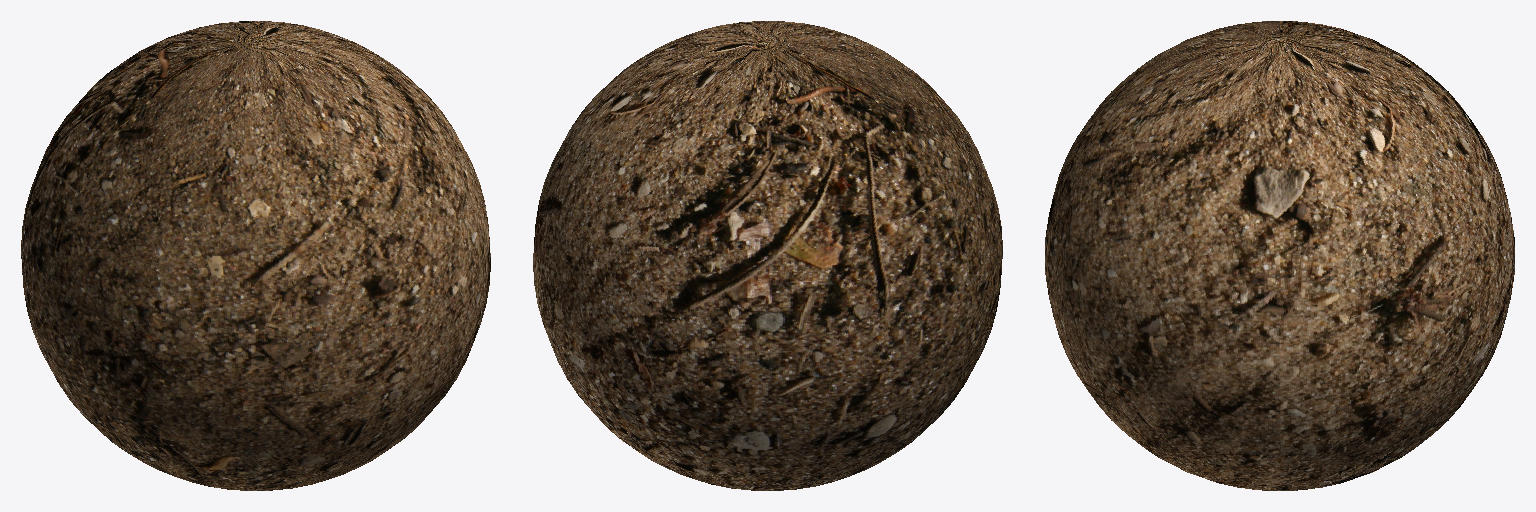
3 renders of one model, left to right at view 1: azimuth 30°, elevation 25°; view 2: azimuth 150°, elevation 25°; view 3: azimuth 270°, elevation 25°, orthographic.
Visible parts, largest first — view 1: Sphere_Sphere.002; view 2: Sphere_Sphere.002; view 3: Sphere_Sphere.002.
Boxes of the visible parts, x1=… form: Sphere_Sphere.002: x1=21, y1=21, x2=490, y2=490; Sphere_Sphere.002: x1=533, y1=21, x2=1002, y2=490; Sphere_Sphere.002: x1=1045, y1=21, x2=1514, y2=490.
Bounding box in the file's own units: 2 × 2 × 2.
Materials: 1 (1 with a texture image).